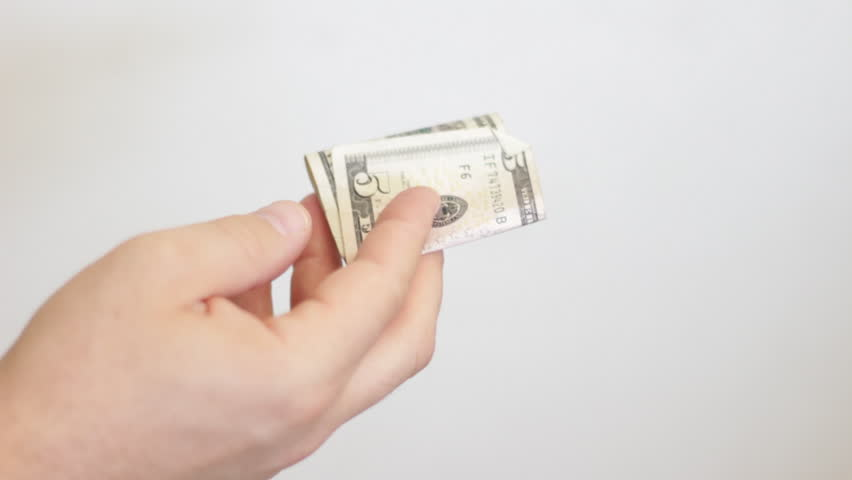billete: (303, 112, 548, 268)
